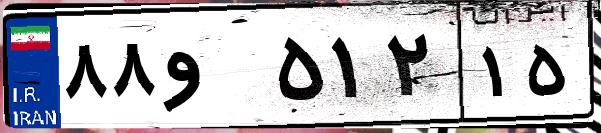1: (330, 28, 385, 110), (475, 38, 525, 113)
2: (385, 28, 445, 110)
5: (270, 28, 330, 110), (525, 38, 570, 115)
8: (57, 26, 110, 100), (110, 28, 158, 98)
و: (158, 20, 270, 120)
